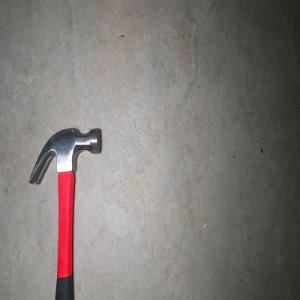Hammer: (28, 126, 102, 300)
